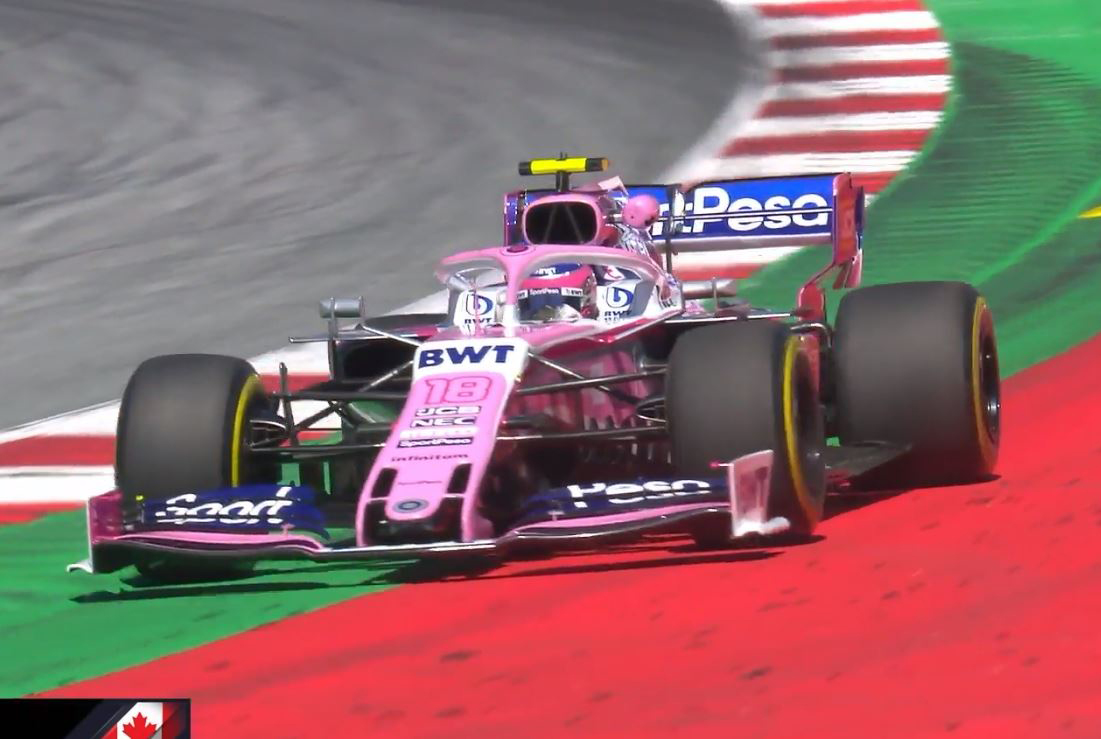F1 Car: (70, 148, 1015, 592)
